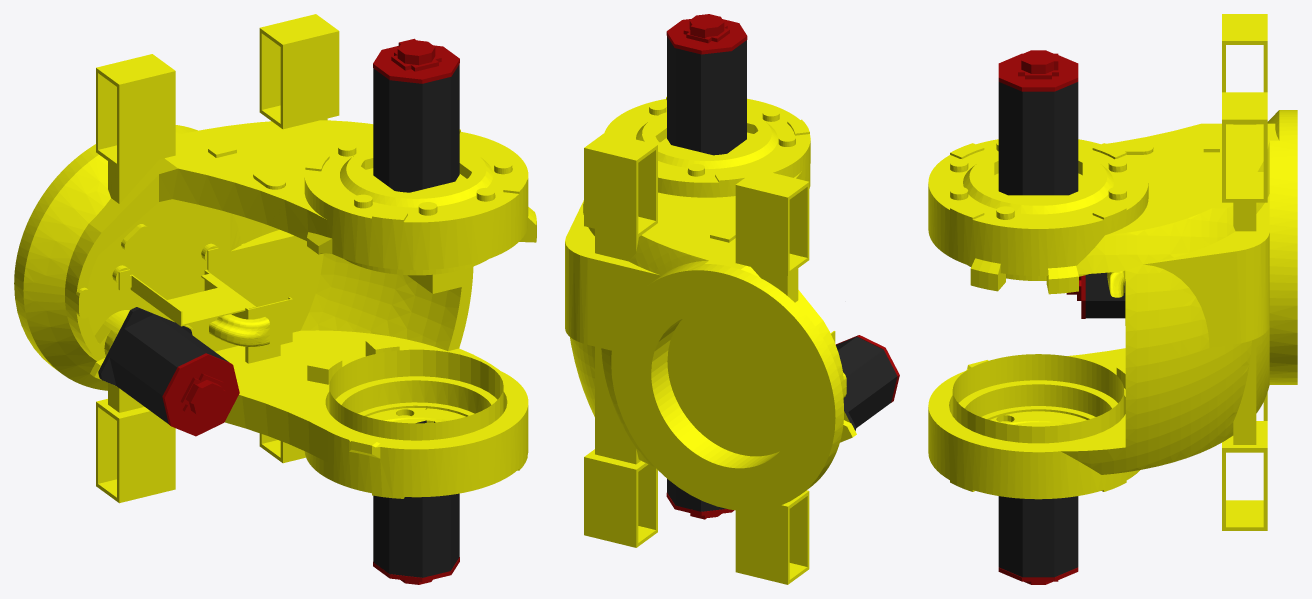
The picture shows the model from 3 angles, left to right: view 1: azimuth 30°, elevation 25°; view 2: azimuth 150°, elevation 25°; view 3: azimuth 270°, elevation 25°; orthographic projection. The views are drawn at different scales.
Visible parts, largest first — view 1: node; view 2: node; view 3: node.
Boxes of the visible parts, bbox=[...] form: node: bbox=[14, 14, 536, 584]; node: bbox=[565, 14, 899, 584]; node: bbox=[928, 14, 1297, 584].
Bounding box in the file's own units: 927 × 1252 × 805.
